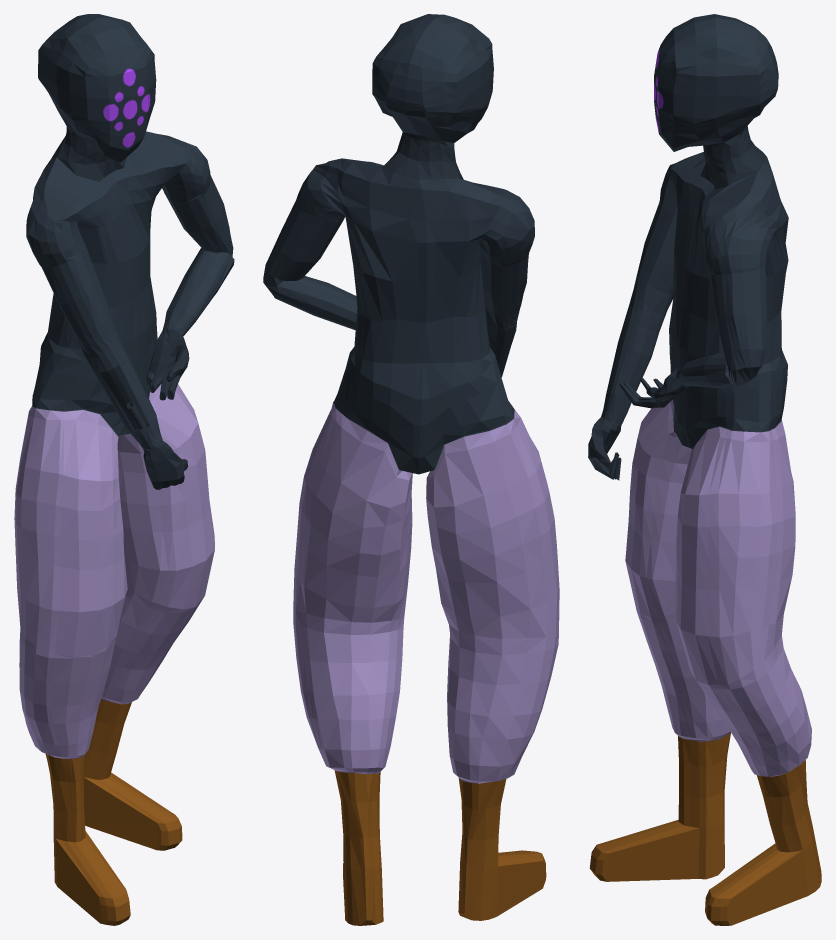
File: Oracle_WR_000026.obj
The picture shows the model from 3 angles, left to right: view 1: azimuth 30°, elevation 25°; view 2: azimuth 150°, elevation 25°; view 3: azimuth 270°, elevation 25°; orthographic projection. The views are drawn at different scales.
Visible parts, largest first — view 1: Cube; view 2: Cube; view 3: Cube.
Boxes of the visible parts, bbox=[...] form: Cube: bbox=[14, 14, 234, 925]; Cube: bbox=[263, 14, 559, 925]; Cube: bbox=[588, 14, 821, 925].
Size of the model in its own units: 1.16 by 3.93 by 0.95.
